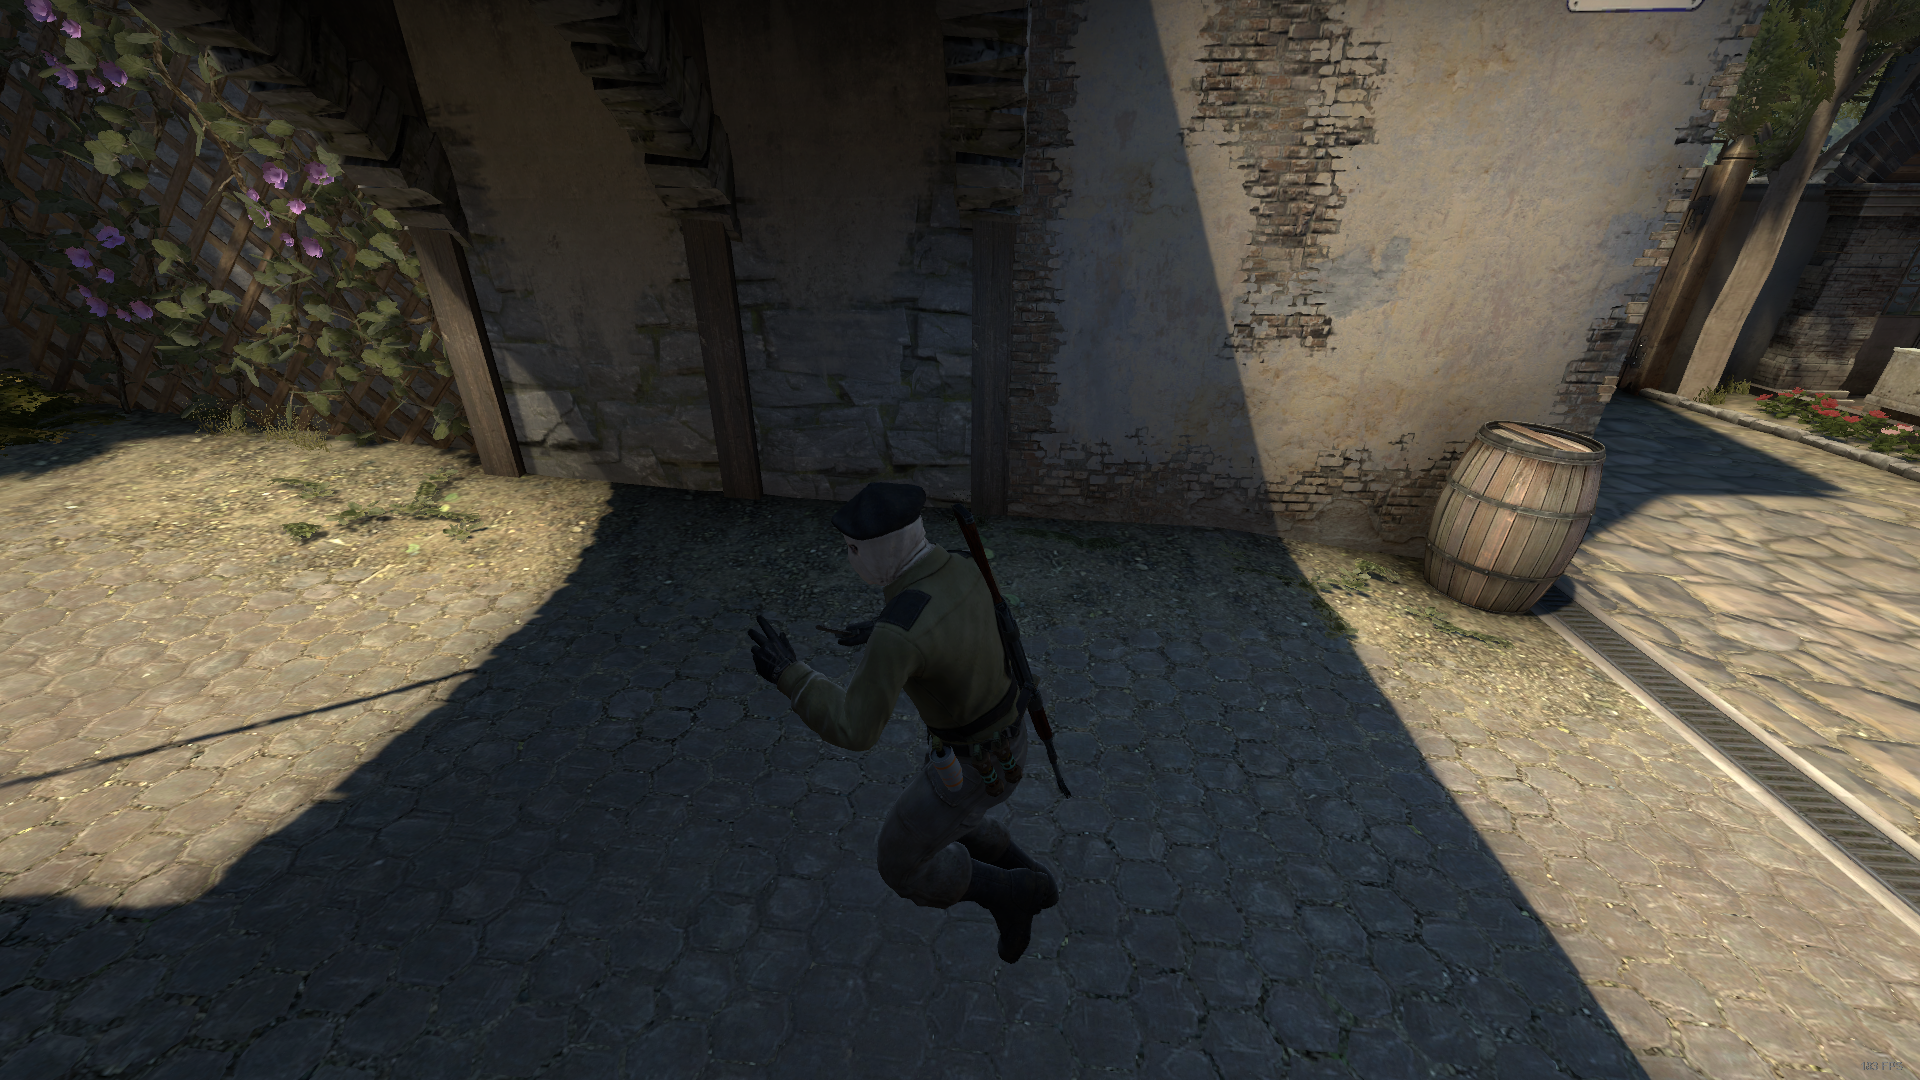t: (746, 483, 1062, 965)
